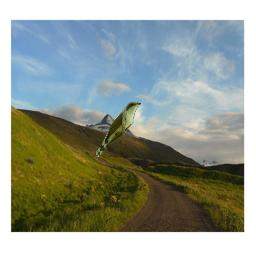Cuckoo: (96, 102, 141, 157)
